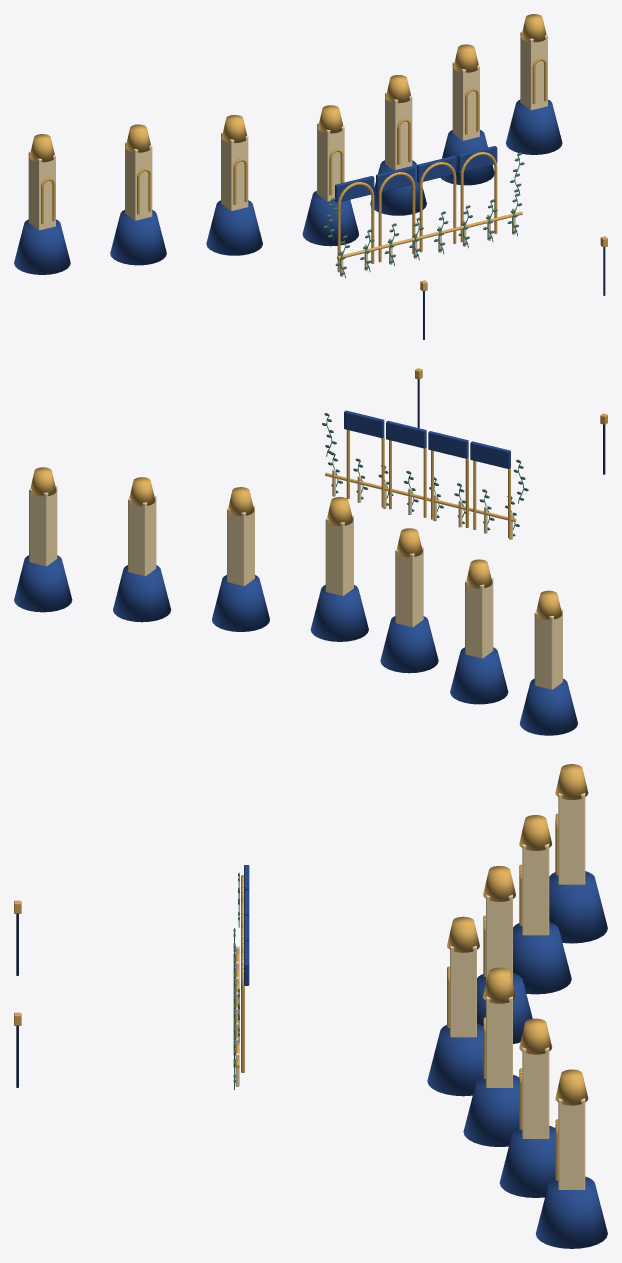
File: garden.glb
The picture shows the model from 3 angles, top to bottom: view 1: azimuth 30°, elevation 25°; view 2: azimuth 150°, elevation 25°; view 3: azimuth 270°, elevation 25°; orthographic projection. The views are drawn at different scales.
Visible parts, largest first — view 1: Architecture_blue, Architecture_cream, Architecture_gold, Architecture_leaf; view 2: Architecture_blue, Architecture_cream, Architecture_gold, Architecture_leaf; view 3: Architecture_blue, Architecture_cream, Architecture_gold, Architecture_leaf.
Part boxes in pixels (<box>): Architecture_blue: <box>14,99,562,274</box>; Architecture_cream: <box>28,32,547,276</box>; Architecture_gold: <box>29,14,607,291</box>; Architecture_leaf: <box>323,152,524,278</box>; Architecture_blue: <box>14,410,577,735</box>; Architecture_cream: <box>29,469,562,689</box>; Architecture_gold: <box>30,368,607,619</box>; Architecture_leaf: <box>322,413,528,539</box>; Architecture_blue: <box>244,865,607,1248</box>; Architecture_cream: <box>235,793,585,1189</box>; Architecture_gold: <box>14,764,588,1180</box>; Architecture_leaf: <box>233,873,239,1089</box>.
Bounding box in the file's own units: 26.4 × 6.1 × 19.73.
